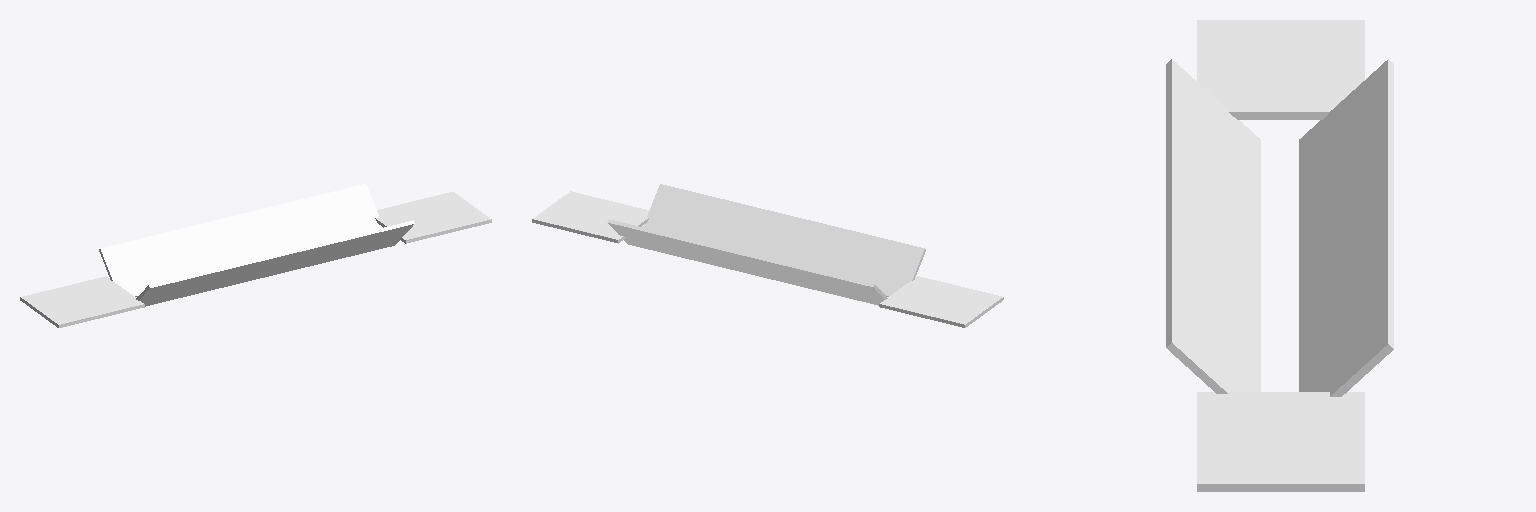
robot.urdf — stair_bauzil:
<robot name="stair_bauzil">
  <link name="base_link">
    <visual>
      <origin xyz="0 0 0" rpy="0 0 0" />
      <geometry>
        <mesh filename="package://hpp-rbprm-corba/meshes/sideWall_long.stl"/>
      </geometry>
      <material name="white">
        <color rgba="1 1 1 1"/>
      </material>
    </visual>
    <collision>
      <origin xyz="0 0 0" rpy="0 0 0" />
      <geometry>
        <mesh filename="package://hpp-rbprm-corba/meshes/sideWall_long.stl"/>
      </geometry>
    </collision>
  </link>
</robot>

--- Render facts (derived) ---
The picture shows the robot from 3 angles, left to right: view 1: azimuth 30°, elevation 25°; view 2: azimuth 150°, elevation 25°; view 3: azimuth 270°, elevation 25°; orthographic projection.
Model stair_bauzil with 1 links and 0 joints (none), rooted at base_link, posed every joint at zero.
Links seen in each view (by area): view 1: base_link; view 2: base_link; view 3: base_link.
Link boxes in pixels (x1=…): base_link: x1=20, y1=184, x2=491, y2=327; base_link: x1=532, y1=184, x2=1003, y2=327; base_link: x1=1166, y1=20, x2=1393, y2=491.
Bounding box of the posed robot: 13.1 × 2.73 × 1.14 m (x, y, z).
1 mesh visuals loaded from 1 distinct referenced files (1 binary STL).